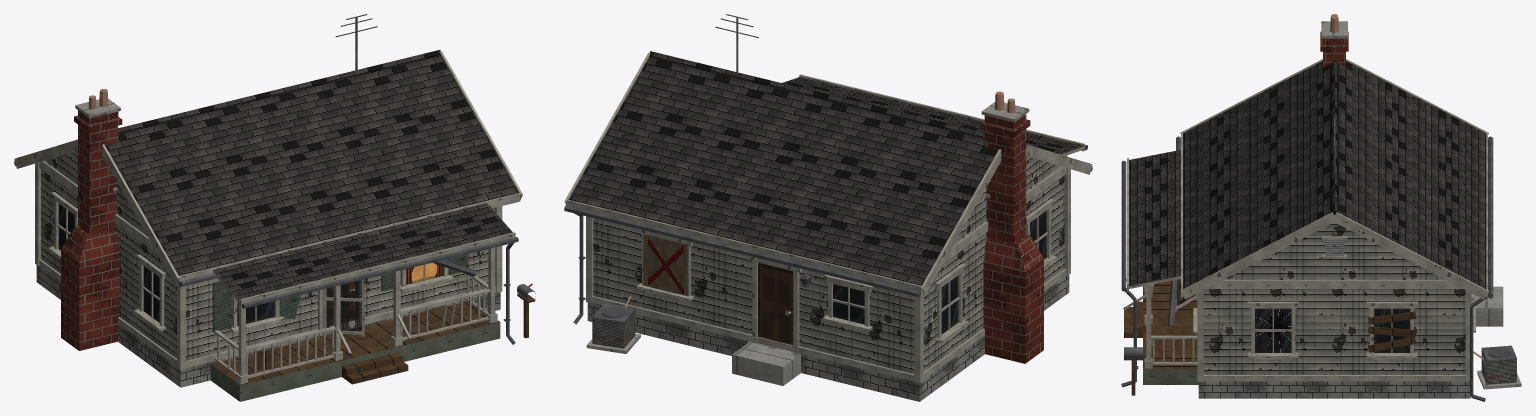
Rendered from house_a.glb.
The picture shows the model from 3 angles, left to right: view 1: azimuth 30°, elevation 25°; view 2: azimuth 150°, elevation 25°; view 3: azimuth 270°, elevation 25°; orthographic projection. The views are drawn at different scales.
Parts seen in each view (by area): view 1: detail, shell-col; view 2: detail, shell-col; view 3: detail, shell-col.
Part boxes in pixels (x1=…): detail: x1=14, y1=14, x2=535, y2=384; shell-col: x1=36, y1=169, x2=500, y2=401; detail: x1=564, y1=14, x2=1092, y2=385; shell-col: x1=587, y1=175, x2=1069, y2=401; detail: x1=1121, y1=14, x2=1521, y2=401; shell-col: x1=1124, y1=279, x2=1470, y2=398.
Size of the model in its own units: 10.56 by 7.02 by 10.44.
26 materials, 26 textured.
